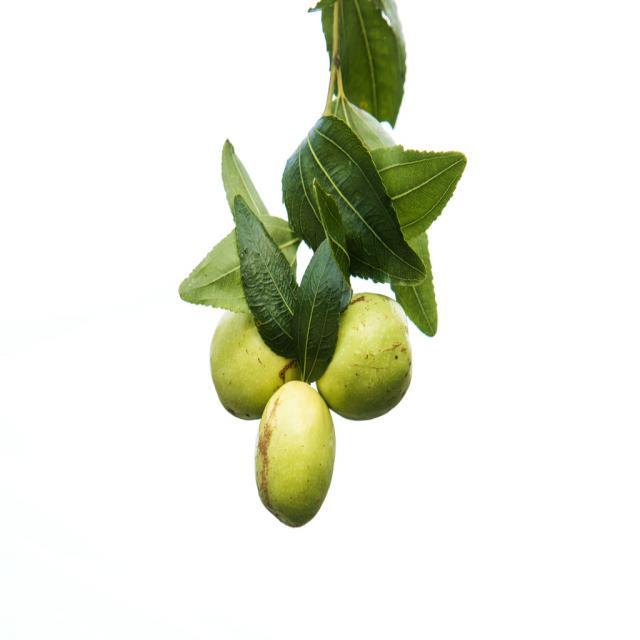Pear: (317, 294, 415, 425), (255, 379, 337, 531), (206, 316, 306, 422)
